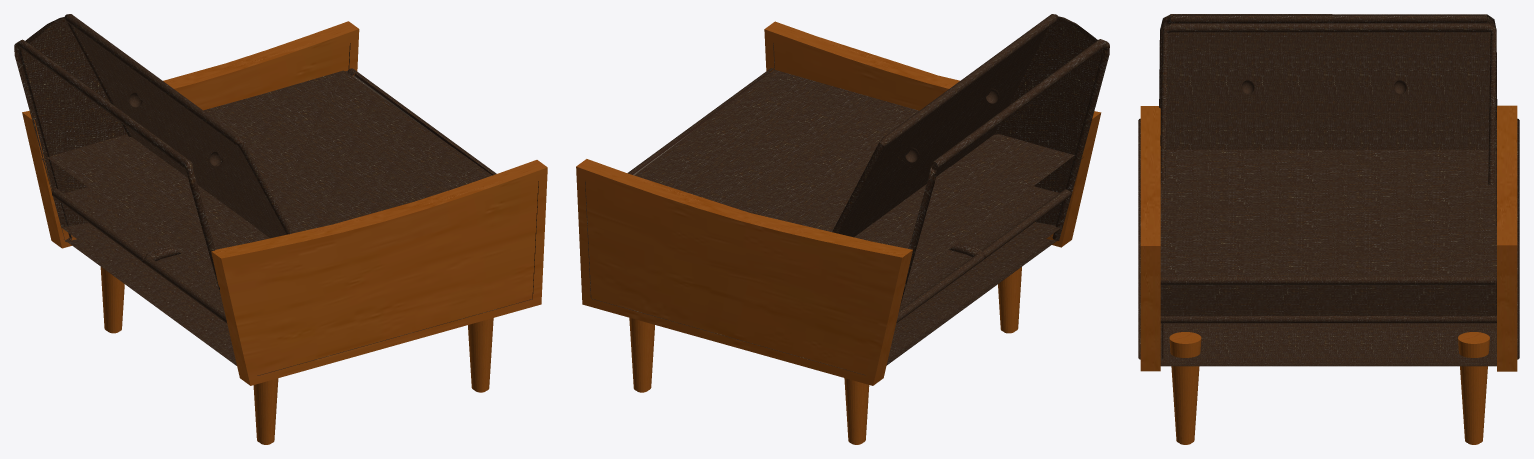
The model's file is Tylerchair4git.glb.
3 renders of one model, left to right at view 1: azimuth 30°, elevation 25°; view 2: azimuth 150°, elevation 25°; view 3: azimuth 270°, elevation 25°, orthographic. The views are drawn at different scales.
Visible parts, largest first — view 1: Cylinder.005, Cylinder.001; view 2: Cylinder.005, Cylinder.001; view 3: Cylinder.005, Cylinder.001.
Boxes of the visible parts, x1,y1,x2,y2 form: Cylinder.005: (14, 14, 538, 375); Cylinder.001: (22, 21, 547, 444); Cylinder.005: (585, 14, 1109, 375); Cylinder.001: (576, 21, 1101, 444); Cylinder.005: (1138, 14, 1519, 366); Cylinder.001: (1140, 105, 1517, 444).
Bounding box in the file's own units: 1.01 × 0.8898 × 1.01.
2 materials, 2 textured.
